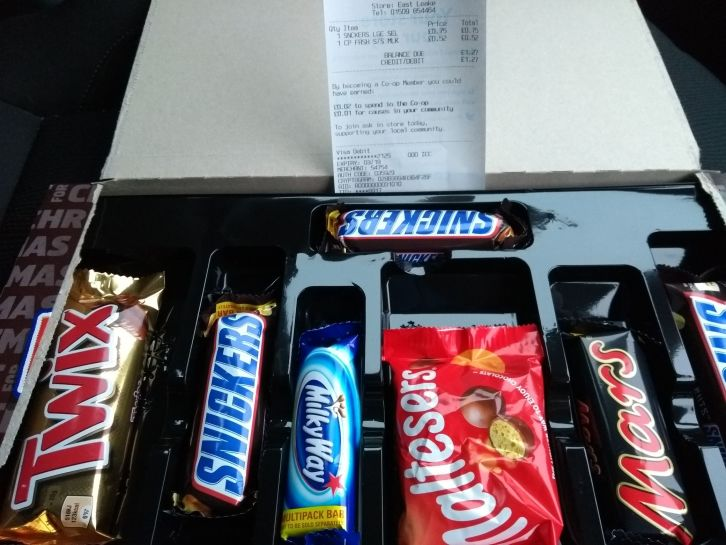snickers: (194, 312, 261, 495), (194, 315, 262, 495), (337, 208, 495, 233), (694, 296, 724, 381)
